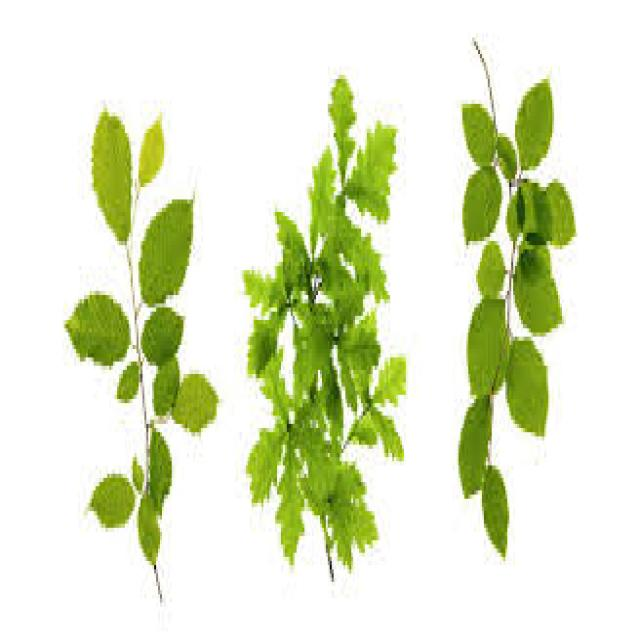leaves: (139, 200, 192, 306), (92, 112, 131, 242), (66, 293, 130, 365), (172, 373, 218, 431), (141, 309, 184, 365), (90, 474, 135, 527), (139, 117, 164, 186), (150, 429, 171, 511), (138, 495, 160, 567), (154, 357, 179, 415), (118, 362, 139, 402), (132, 458, 144, 493)
